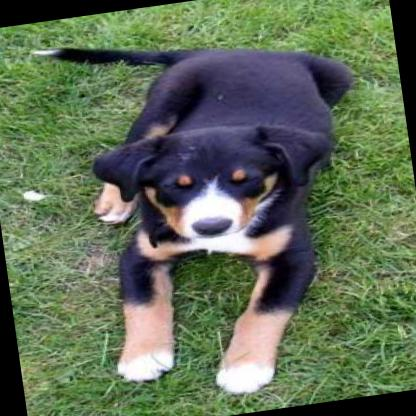EntleBucher: (20, 0, 394, 416)
